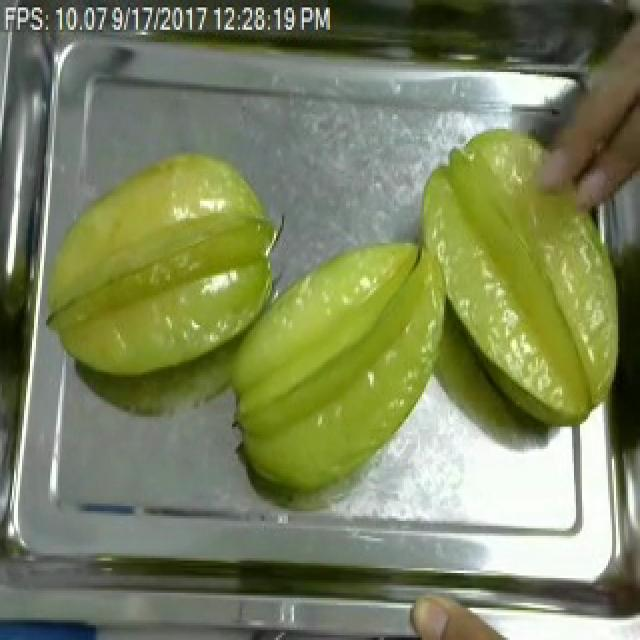fruit: (408, 114, 634, 439), (216, 231, 470, 511), (36, 139, 292, 389), (402, 593, 546, 640)
